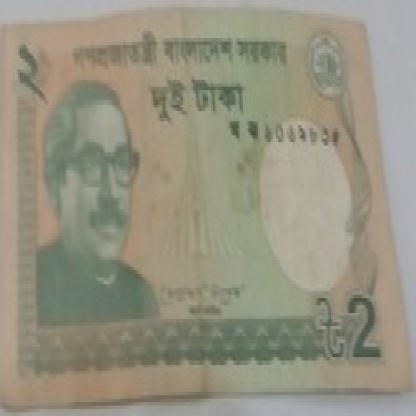two taka: (13, 38, 65, 135), (342, 277, 388, 385)
